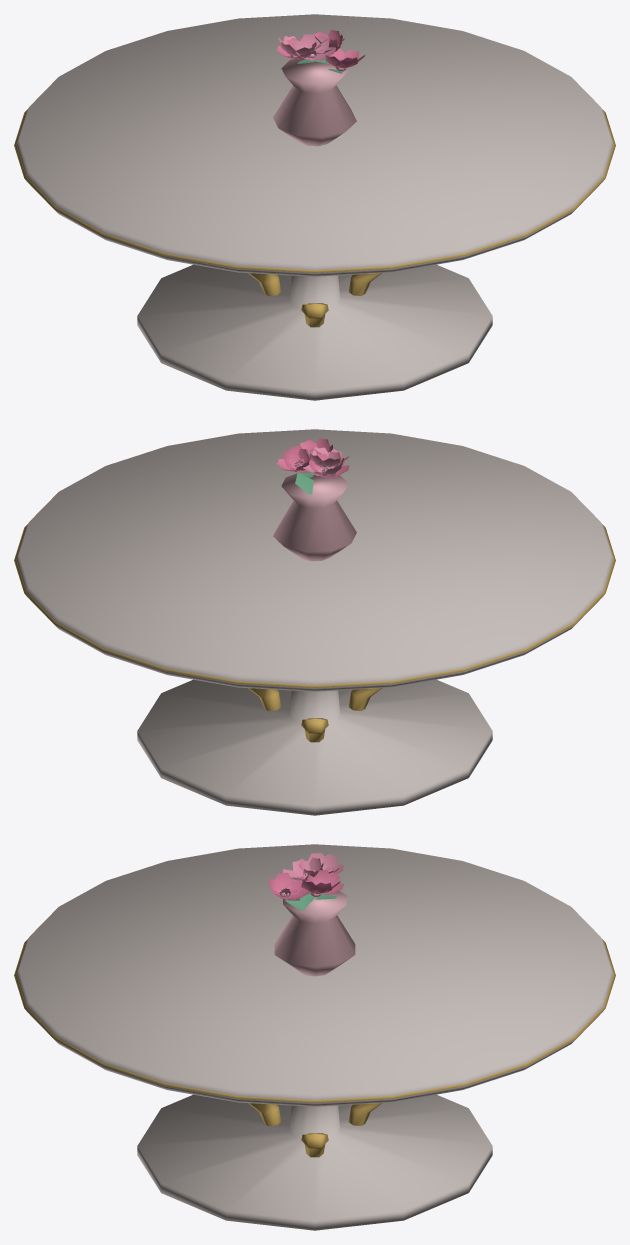
The model's file is table_round.glb.
The picture shows the model from 3 angles, top to bottom: view 1: azimuth 30°, elevation 25°; view 2: azimuth 150°, elevation 25°; view 3: azimuth 270°, elevation 25°; orthographic projection.
Visible parts, largest first — view 1: table_round; view 2: table_round; view 3: table_round.
Part boxes in pixels (box(x1,y1,x2,y2)): table_round: box(14, 14, 615, 400); table_round: box(14, 429, 615, 815); table_round: box(14, 844, 615, 1230).
Size of what is drawn, in the model's own units: 1.4 by 0.75 by 1.4.
